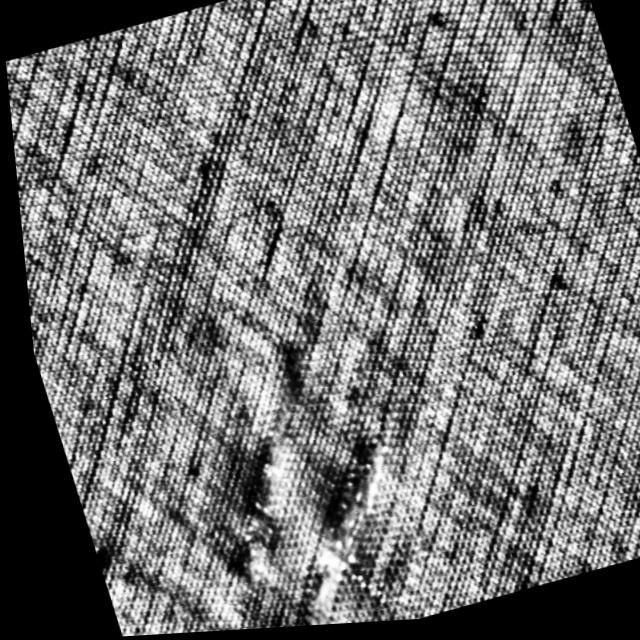Stitch: (230, 420, 427, 631), (185, 475, 307, 630)
